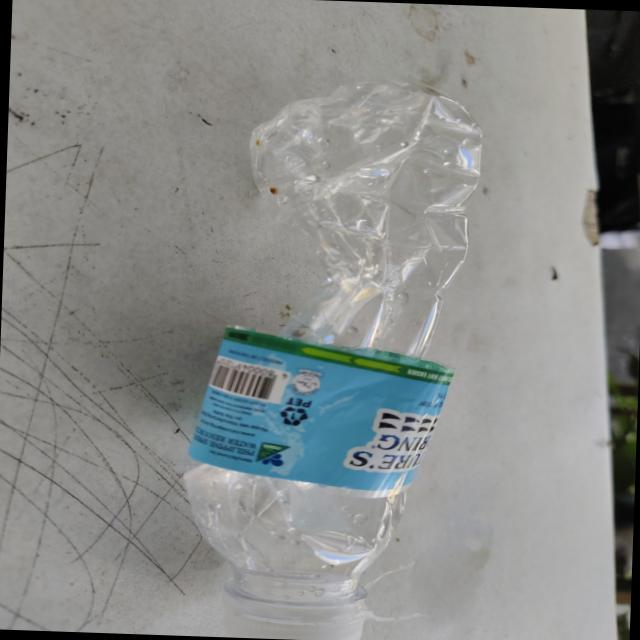Bottle: (181, 81, 480, 640)
